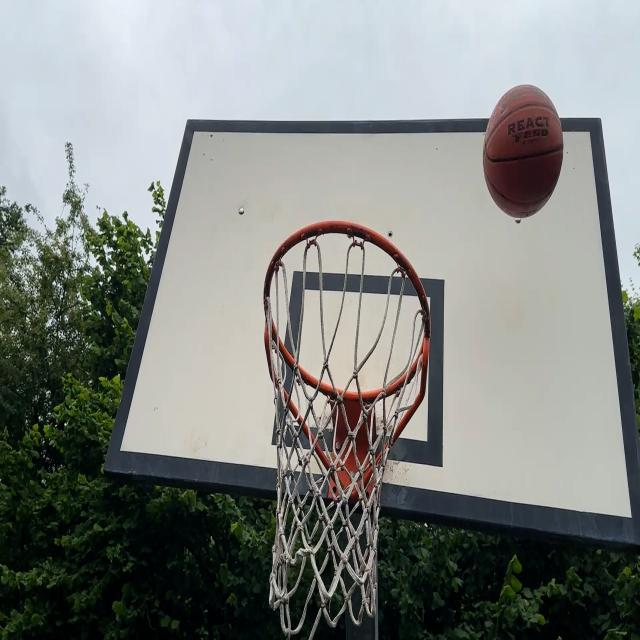Basketball: (482, 86, 564, 220)
